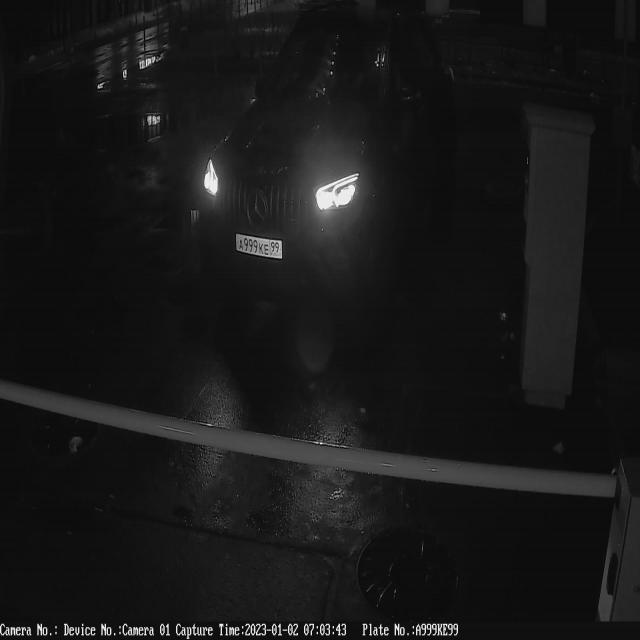car-plate-numbers: (233, 229, 289, 264)
